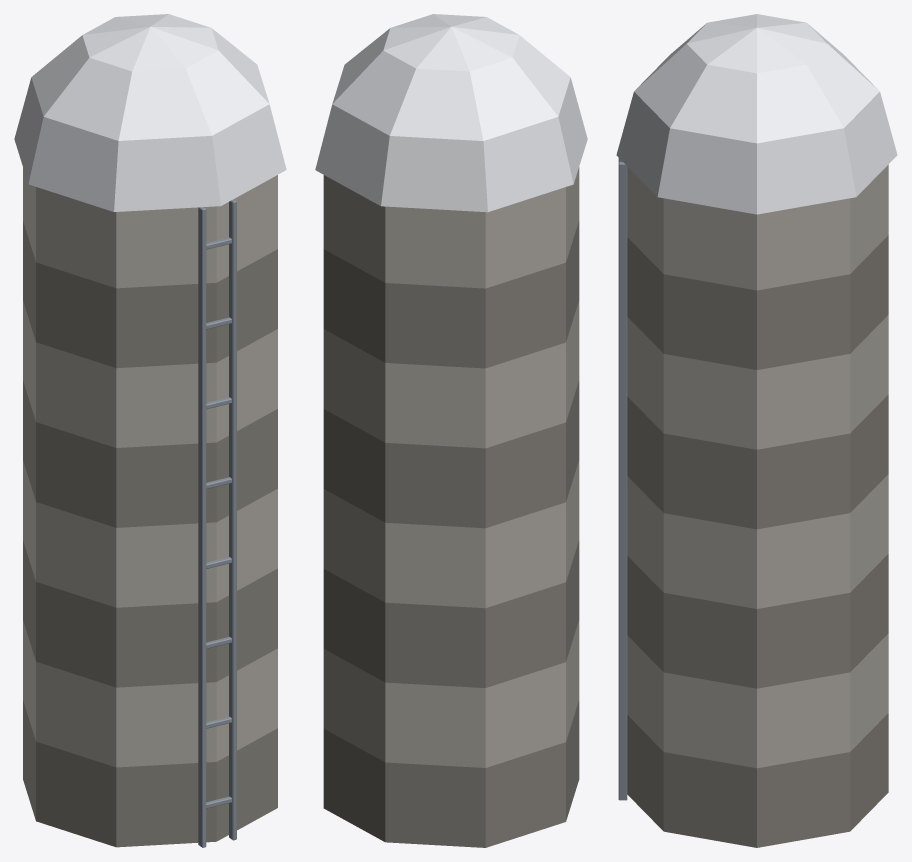
The model's file is Silo.fbx.
3 renders of one model, left to right at view 1: azimuth 30°, elevation 25°; view 2: azimuth 150°, elevation 25°; view 3: azimuth 270°, elevation 25°, orthographic.
Visible parts, largest first — view 1: Silo; view 2: Silo; view 3: Silo.
Part boxes in pixels (x1,y1,x2,y2): Silo: (14,14,286,847); Silo: (315,14,587,847); Silo: (616,14,897,847).
Size of the model in its own units: 6.4 by 19.2 by 6.4.
1 material, 1 textured.
